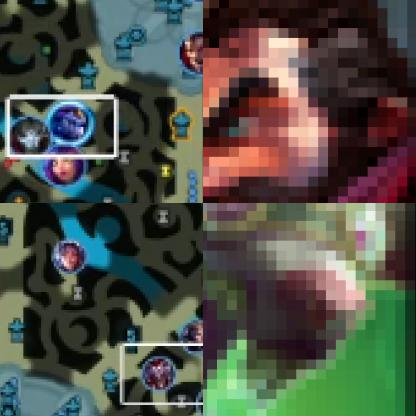Aurelion Sol: (50, 104, 94, 147)
Darius: (177, 30, 202, 76)
Graves: (203, 0, 415, 202)
Irelia: (53, 240, 86, 273)
Jhin: (9, 118, 52, 160)
Leblanc: (181, 319, 202, 353)
Neeko: (41, 145, 87, 186)
Shaco: (142, 356, 176, 390)
Twitch: (203, 203, 415, 415)
